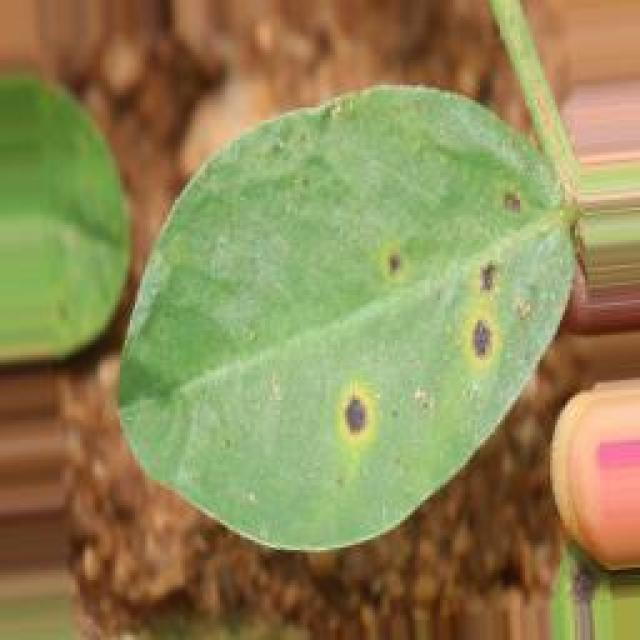Sigatoka: (422, 220, 516, 374), (318, 359, 412, 479), (454, 148, 542, 260), (358, 220, 414, 316)
